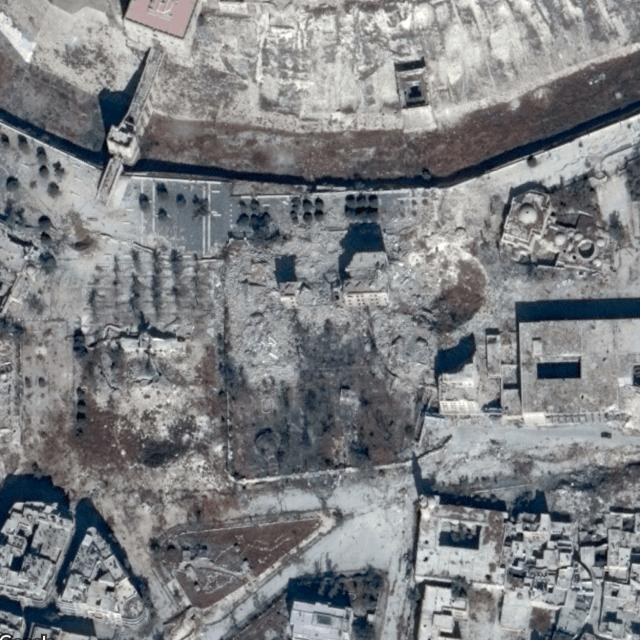damaged_building: (219, 209, 514, 393), (84, 323, 224, 495), (8, 198, 107, 274)
